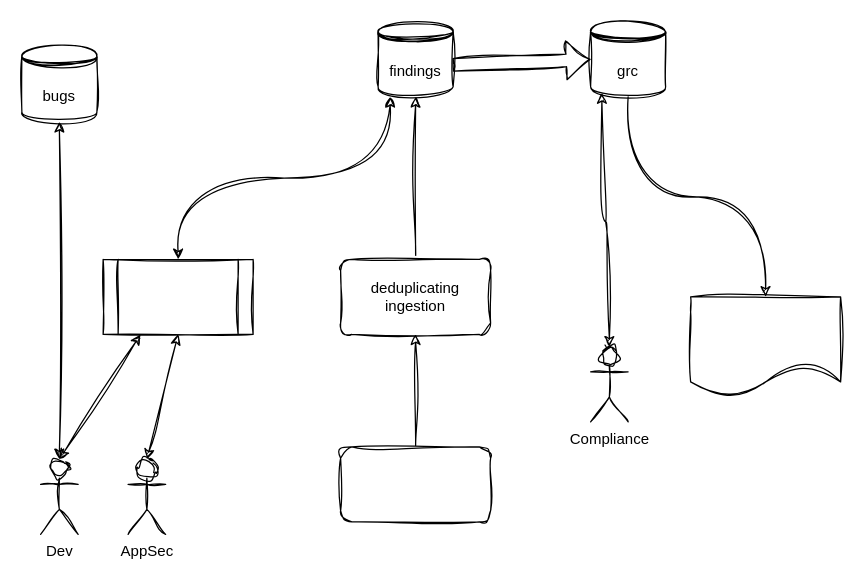
This 863x583 diagram has some shape labels left out. Here are the shapes that lost their labels. From the top down, the centre of each, then its label:
At (x=177, y=296): "triage and analysis".
At (x=765, y=346): "compliance reports".
At (x=415, y=484): "scanner".
